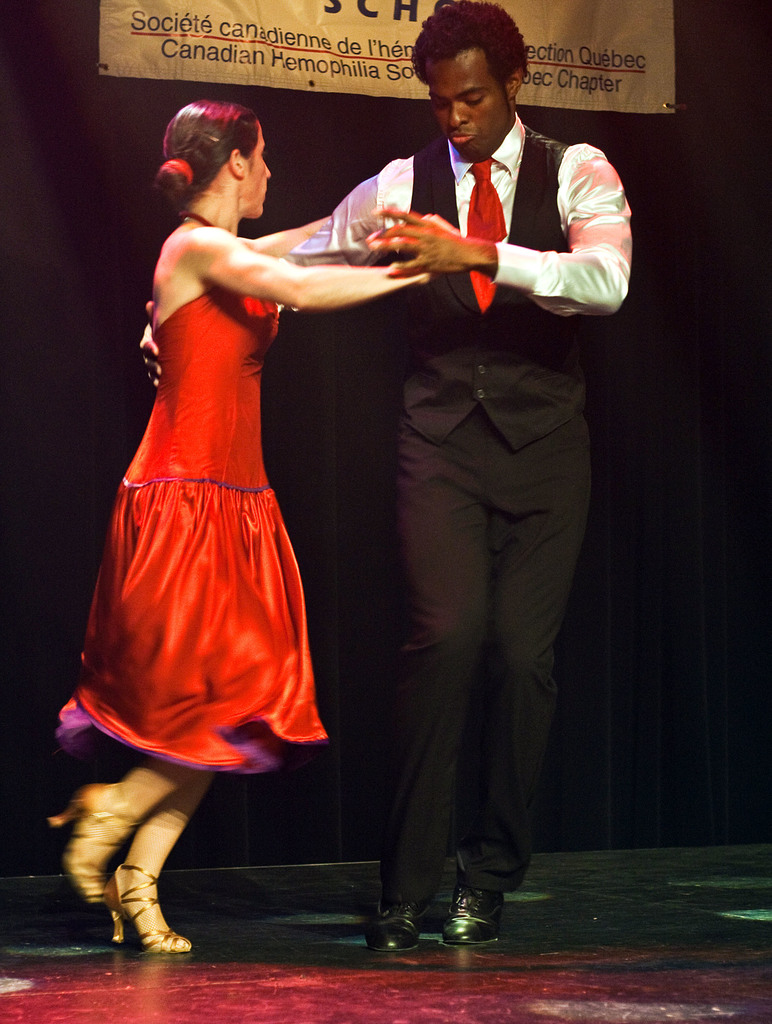Person: (140, 0, 632, 951), (45, 99, 460, 956)
